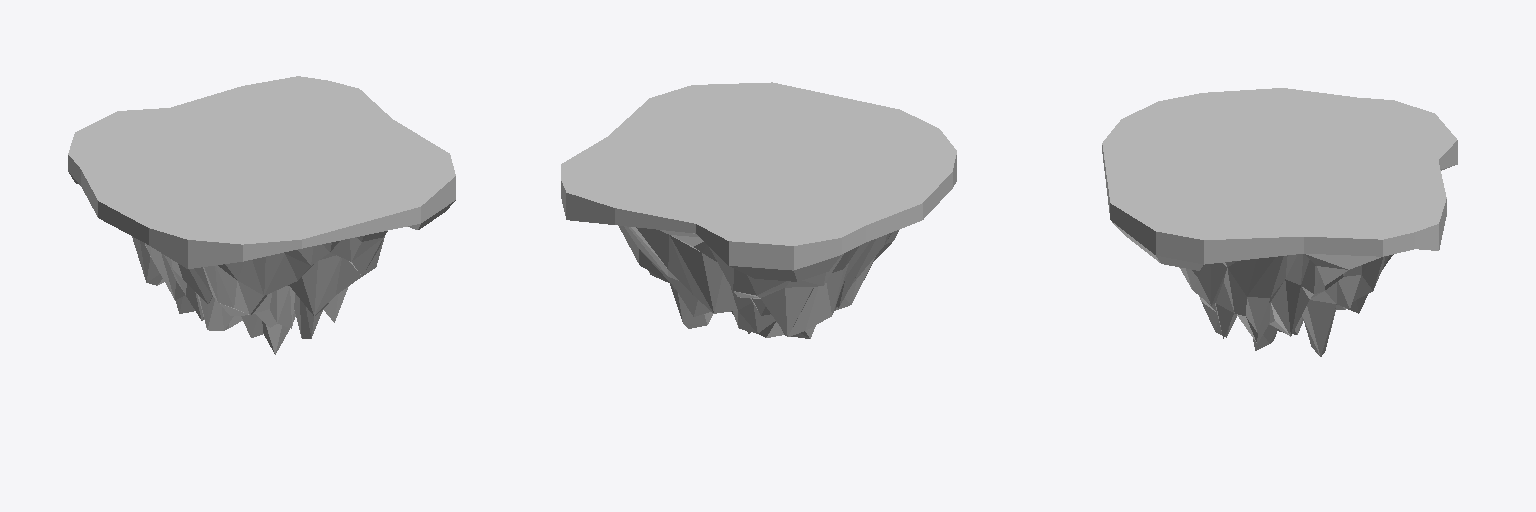
The model's file is wyspa_duza_okragla_2.obj.
3 renders of one model, left to right at view 1: azimuth 30°, elevation 25°; view 2: azimuth 150°, elevation 25°; view 3: azimuth 270°, elevation 25°, orthographic.
Parts seen in each view (by area): view 1: Landscape; view 2: Landscape; view 3: Landscape.
Boxes of the visible parts, x1,y1,x2,y2 form: Landscape: [68, 76, 455, 354]; Landscape: [561, 82, 956, 338]; Landscape: [1102, 88, 1457, 356].
Size of the model in its own units: 110 by 61.85 by 108.